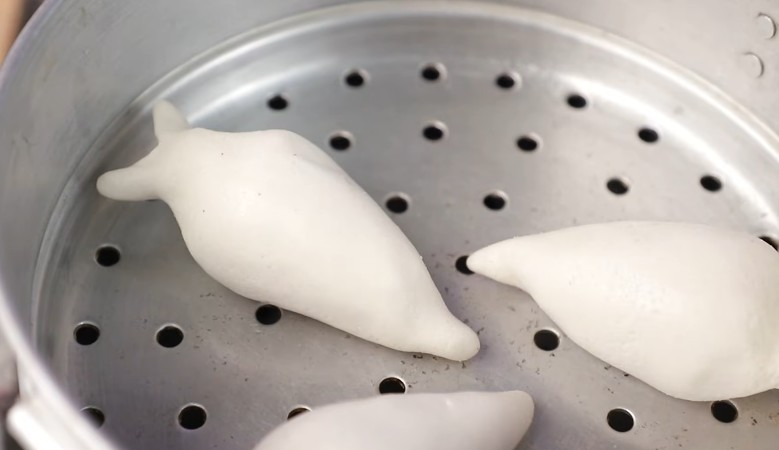yomari: (464, 222, 771, 340), (84, 89, 363, 216), (350, 375, 550, 450)
